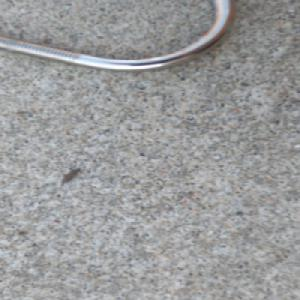ClampPart: (0, 0, 239, 75)
